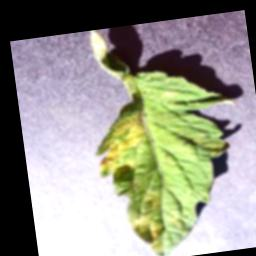Leaf_Mold: (90, 109, 153, 177), (128, 195, 166, 256)
